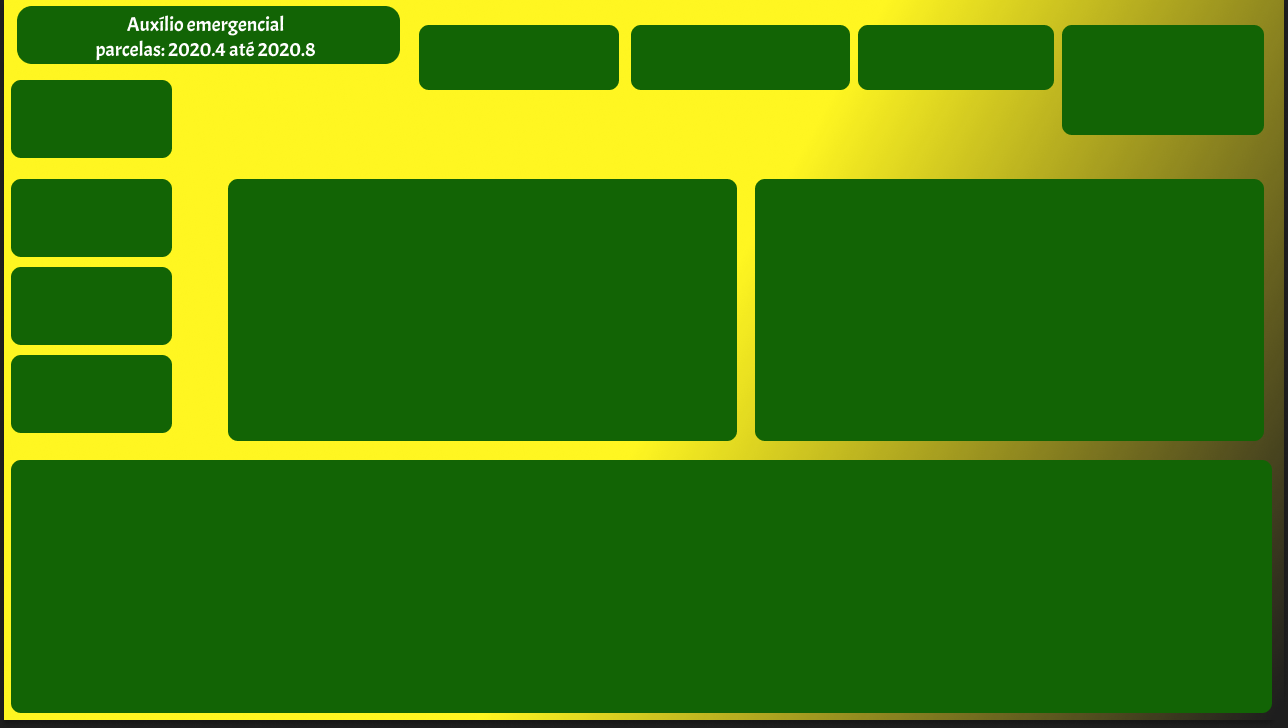

What the dashboard file says about the page in this screenshot:
{"tool":"powerbi","page":{"name":"Página 2","canvas":[1280,720],"ordinal":1},"visuals":[{"type":"card","title":"Benefício em R$","fields":{"Values":["Sheet1.valor"]},"box":[411.4,25.9,203,60.8],"z":0},{"type":"card","title":"Número de beneficiários","fields":{"Values":["Sheet1.cpf_beneficiario"]},"box":[626.1,25.9,219.1,60.8],"z":1},{"type":"card","title":"Número de parcelas","fields":{"Values":["Sheet1.parcela"]},"box":[857.7,25.9,192.3,60.8],"z":2},{"type":"slicer","title":"Ano/Mês parcela","fields":{"Values":["Sheet1.ano_mes"]},"box":[1061.7,25.9,199.5,102],"z":3},{"type":"slicer","title":"Município","fields":{"Values":["Sheet1.municipio"]},"box":[16.8,77,144.4,69.1],"z":4},{"type":"donutChart","title":"Enquadramento ","fields":{"Category":["Sheet1.enquadramento"],"Y":["Sheet1.enquadramento"]},"box":[230.3,179.8,495.9,259.5],"z":5},{"type":"clusteredColumnChart","title":"Observações","fields":{"Y":["Sheet1.observacao"],"Category":["Sheet1.observacao"]},"box":[757.2,179.8,496.8,259.5],"z":6},{"type":"tableEx","fields":{"Values":["Sheet1.ano_mes","Sheet1.parcela","Sheet1.cpf_beneficiario","Sheet1.nis_beneficiario","Sheet1.valor","Sheet1.cpf_responsavel","Sheet1.nis_responsavel","Sheet1.enquadramento","Sheet1.observacao","Sheet1.municipio","Sheet1.uf"]},"box":[17,471.4,1244.1,227.2],"z":7},{"type":"slicer","title":"Enquadramento","fields":{"Values":["Sheet1.enquadramento"]},"box":[17,180.7,144,68.9],"z":8},{"type":"slicer","title":"Parcela","fields":{"Values":["Sheet1.parcela"]},"box":[16.8,267.5,144.4,69.1],"z":9},{"type":"slicer","title":"Observação","fields":{"Values":["Sheet1.observacao"]},"box":[15.9,353.4,144.4,69.1],"z":10},{"type":"actionButton","title":"Clique aqui para limpar filtros","box":[201.9,77,190.4,34.5],"z":11}]}

Visuals, with their boxes in screenshot pixels (x1, y1, x2, y2), scaled from the page's 1280x720 canvas onto the 1288x728 screenshot:
"Benefício em R$" card: detection(414, 26, 618, 88)
"Número de beneficiários" card: detection(630, 26, 850, 88)
"Número de parcelas" card: detection(863, 26, 1057, 88)
"Ano/Mês parcela" slicer: detection(1068, 26, 1269, 129)
"Município" slicer: detection(17, 78, 162, 148)
"Enquadramento " donutChart: detection(232, 182, 731, 444)
"Observações" clusteredColumnChart: detection(762, 182, 1262, 444)
tableEx - Sheet1.ano_mes x Sheet1.parcela: detection(17, 477, 1269, 706)
"Enquadramento" slicer: detection(17, 183, 162, 252)
"Parcela" slicer: detection(17, 270, 162, 340)
"Observação" slicer: detection(16, 357, 161, 427)
"Clique aqui para limpar filtros" actionButton: detection(203, 78, 395, 113)
